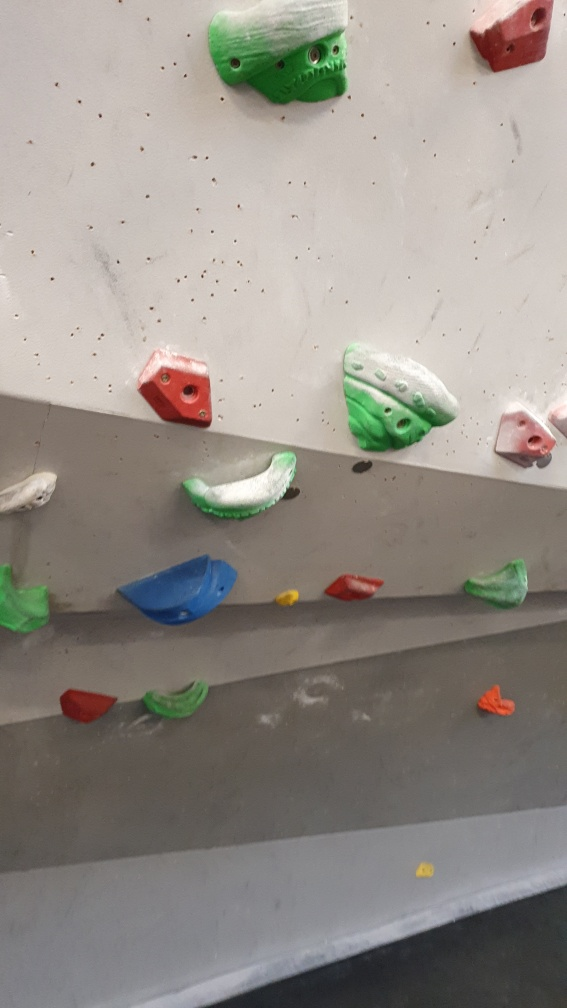Crimp: (139, 348, 219, 433), (480, 1, 559, 79), (490, 405, 559, 471), (325, 570, 385, 601)
Hand Start: (348, 459, 376, 480), (283, 487, 301, 507)
Jug: (211, 1, 352, 109), (337, 342, 459, 457), (179, 455, 297, 521), (1, 565, 63, 637), (458, 554, 532, 613), (141, 681, 214, 723)
Pinch: (117, 554, 243, 628)
